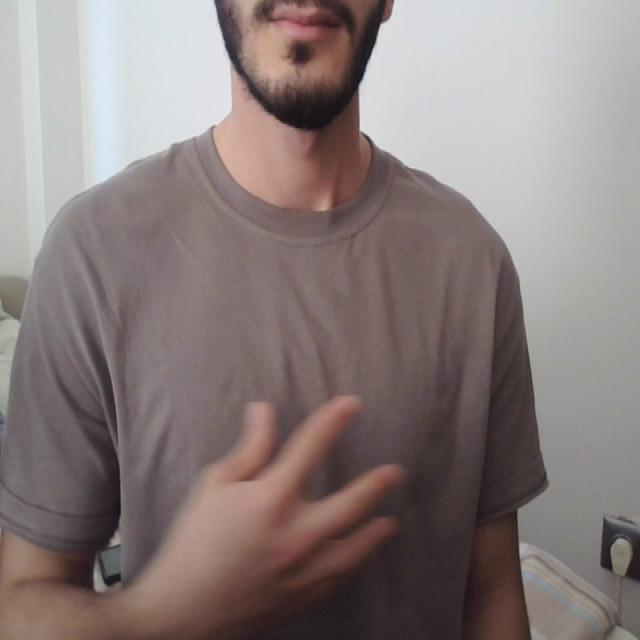Anne: (100, 382, 479, 636)
